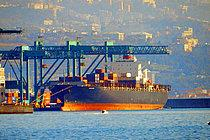Ship: (48, 55, 172, 113)
